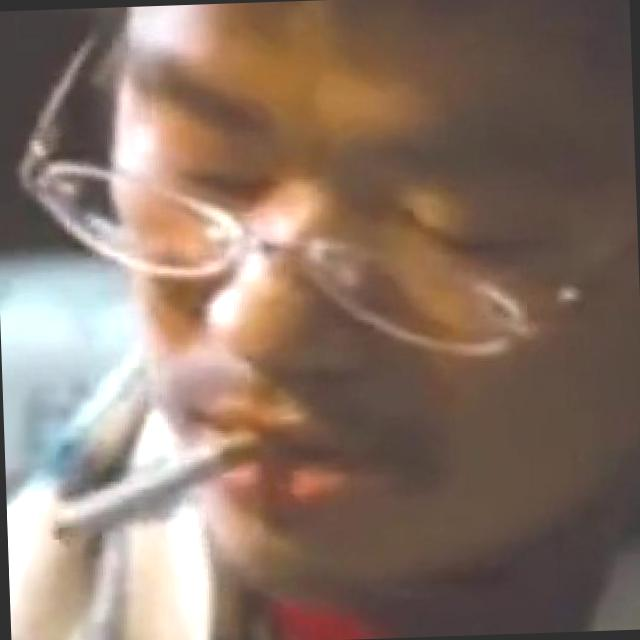cigarette: (41, 415, 312, 544)
